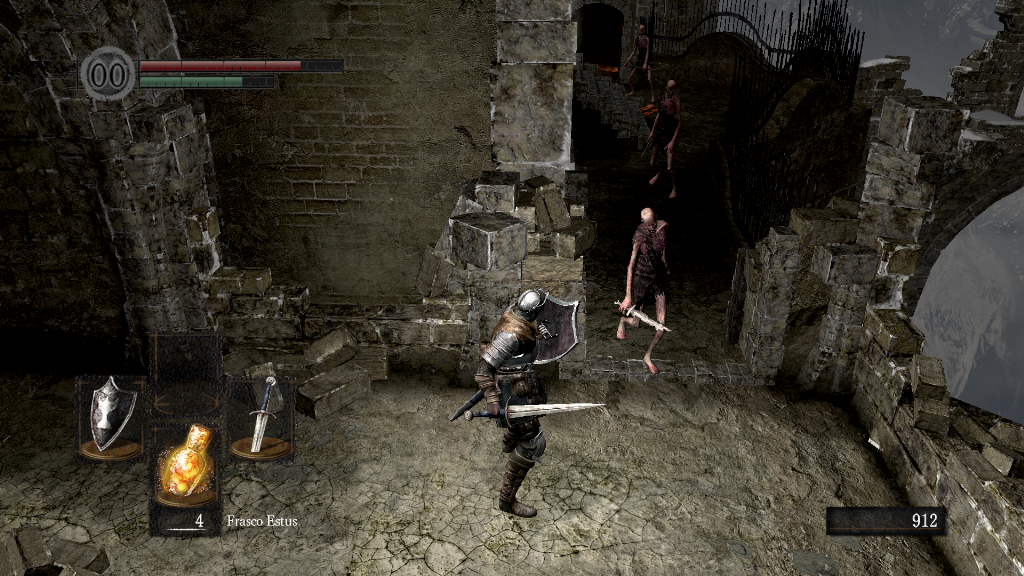health: (138, 58, 343, 71)
hollow: (611, 204, 671, 382), (636, 78, 680, 198), (626, 21, 654, 100)
humanity: (80, 45, 136, 102)
player: (448, 289, 608, 517)
souls: (825, 506, 945, 536)
stamina: (138, 74, 274, 88)
